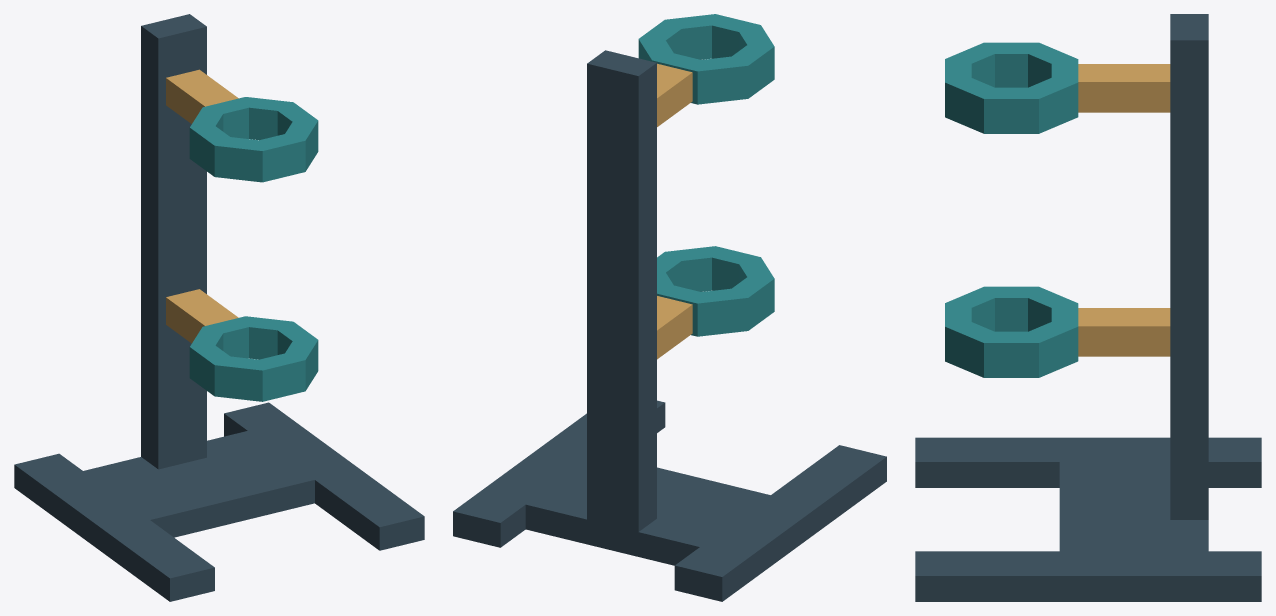
3 renders of one model, left to right at view 1: azimuth 30°, elevation 25°; view 2: azimuth 150°, elevation 25°; view 3: azimuth 270°, elevation 25°, orthographic. The views are drawn at different scales.
Visible parts, largest first — view 1: WholeHFootBase, WholeRearUpright, LowerWholeBoredCollar, UpperWholeBoredCollar, UpperWholeForwardArm, LowerWholeForwardArm; view 2: WholeRearUpright, WholeHFootBase, UpperWholeBoredCollar, LowerWholeBoredCollar, LowerWholeForwardArm, UpperWholeForwardArm; view 3: WholeHFootBase, WholeRearUpright, UpperWholeBoredCollar, LowerWholeBoredCollar, LowerWholeForwardArm, UpperWholeForwardArm.
Boxes of the visible parts, x1,y1,x2,y2 form: WholeHFootBase: [14, 402, 424, 601]; WholeRearUpright: [141, 14, 206, 469]; LowerWholeBoredCollar: [189, 316, 318, 401]; UpperWholeBoredCollar: [189, 97, 318, 182]; UpperWholeForwardArm: [166, 69, 238, 123]; LowerWholeForwardArm: [166, 289, 238, 343]; WholeRearUpright: [587, 50, 656, 531]; WholeHFootBase: [453, 400, 886, 601]; UpperWholeBoredCollar: [638, 14, 774, 104]; LowerWholeBoredCollar: [657, 246, 774, 336]; LowerWholeForwardArm: [657, 296, 692, 359]; UpperWholeForwardArm: [657, 63, 692, 126]; WholeHFootBase: [915, 437, 1261, 601]; WholeRearUpright: [1170, 14, 1208, 519]; UpperWholeBoredCollar: [945, 42, 1078, 133]; LowerWholeBoredCollar: [945, 286, 1078, 377]; LowerWholeForwardArm: [1078, 308, 1170, 356]; UpperWholeForwardArm: [1078, 64, 1170, 112].
Bounding box in the file's own units: 0.68 × 1.16 × 0.72.
